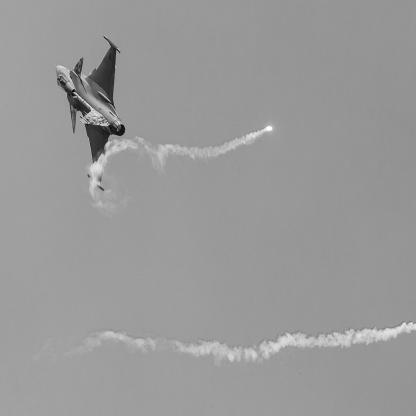JAS39: (54, 37, 127, 193)
